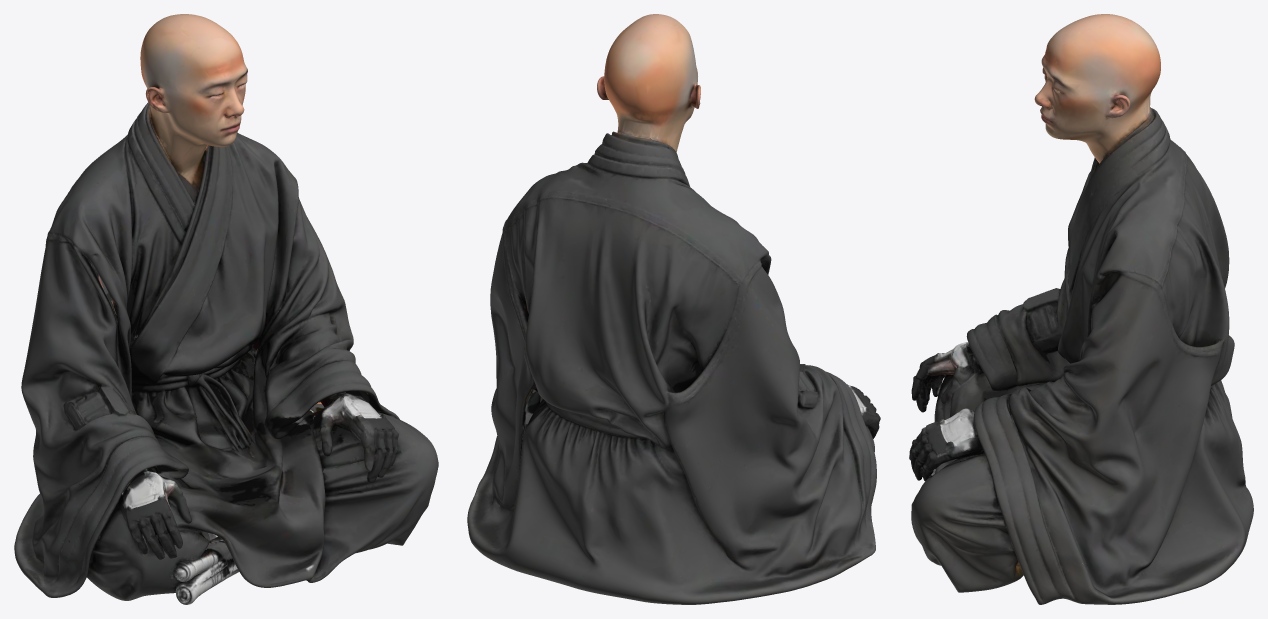
The model's file is monk_compressed.glb.
The picture shows the model from 3 angles, left to right: view 1: azimuth 30°, elevation 25°; view 2: azimuth 150°, elevation 25°; view 3: azimuth 270°, elevation 25°; orthographic projection.
Parts seen in each view (by area): view 1: Mesh_0_Material.001_0; view 2: Mesh_0_Material.001_0; view 3: Mesh_0_Material.001_0.
Boxes of the visible parts, x1,y1,x2,y2 form: Mesh_0_Material.001_0: (14,14,438,604); Mesh_0_Material.001_0: (467,14,880,604); Mesh_0_Material.001_0: (909,14,1253,604).
Size of the model in its own units: 0.866 by 1.2 by 0.7363.
1 material, 1 textured.
